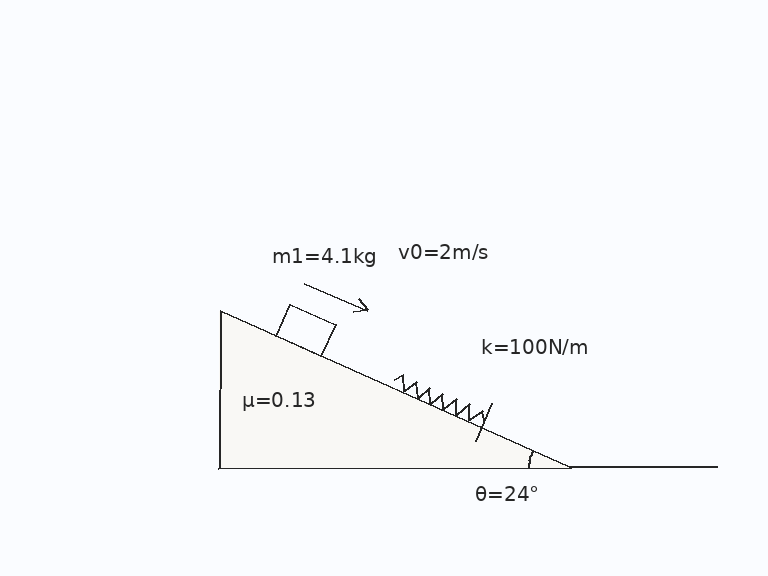block: (274, 302, 337, 358)
ramp: (217, 309, 571, 469)
spring: (392, 374, 487, 422)
